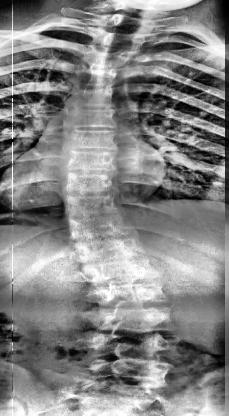Vertebrae: (91, 308, 178, 332), (66, 219, 143, 243), (82, 261, 162, 283), (56, 196, 132, 219), (90, 284, 168, 306), (59, 150, 123, 176), (74, 242, 156, 262), (61, 173, 125, 197), (63, 128, 125, 152), (66, 107, 121, 133), (66, 86, 118, 112), (102, 14, 160, 36), (72, 64, 120, 90), (82, 45, 134, 67), (97, 29, 148, 49)
